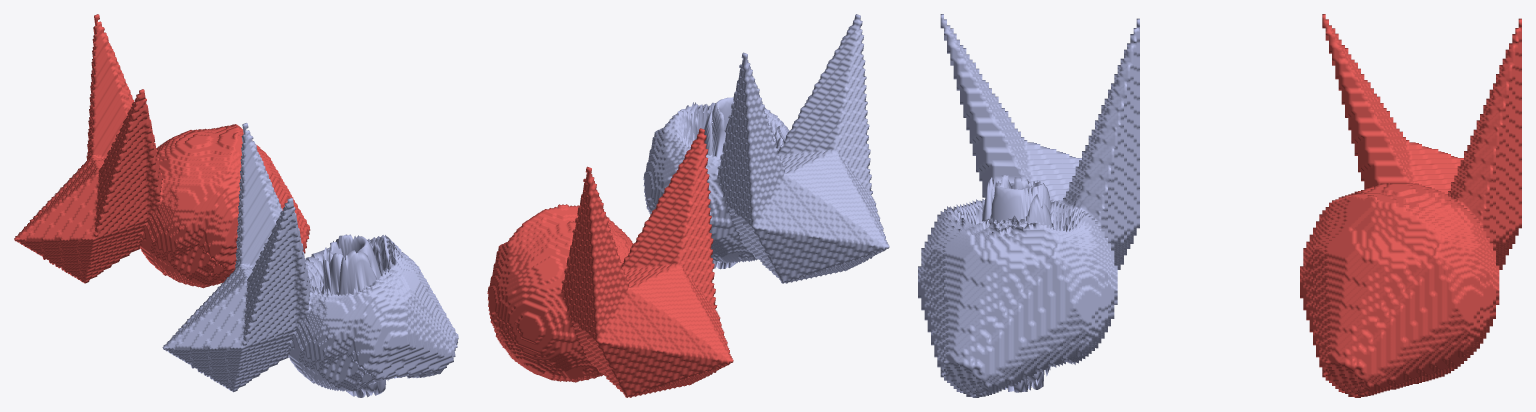
The model's file is Landmarks.fbx.
The picture shows the model from 3 angles, left to right: view 1: azimuth 30°, elevation 25°; view 2: azimuth 150°, elevation 25°; view 3: azimuth 270°, elevation 25°; orthographic projection. The views are drawn at different scales.
Parts seen in each view (by area): view 1: Icosphere.001, Icosphere; view 2: Icosphere, Icosphere.001; view 3: Icosphere, Icosphere.001.
Boxes of the visible parts, bbox=[...] form: Icosphere.001: bbox=[162, 123, 458, 397]; Icosphere: bbox=[14, 14, 310, 288]; Icosphere: bbox=[487, 128, 733, 397]; Icosphere.001: bbox=[643, 14, 889, 283]; Icosphere: bbox=[1300, 14, 1521, 397]; Icosphere.001: bbox=[918, 14, 1139, 397].
Bounding box in the file's own units: 373 × 350 × 595.
